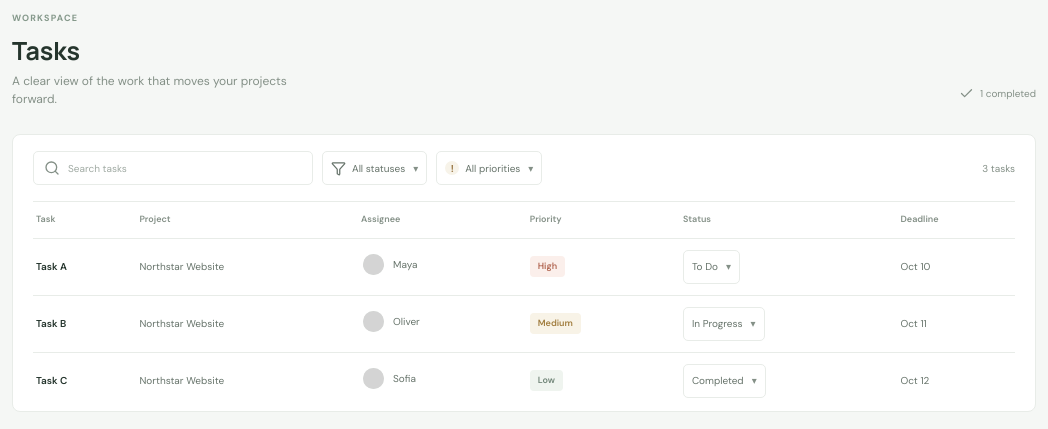
it: Tasks search and filters › filters tasks by status
Expected: the text "Task A" is shown, [36,260,67,273]
Click the button with aria-label "Filter tasks by status": point(375, 168) [322,151,427,185]
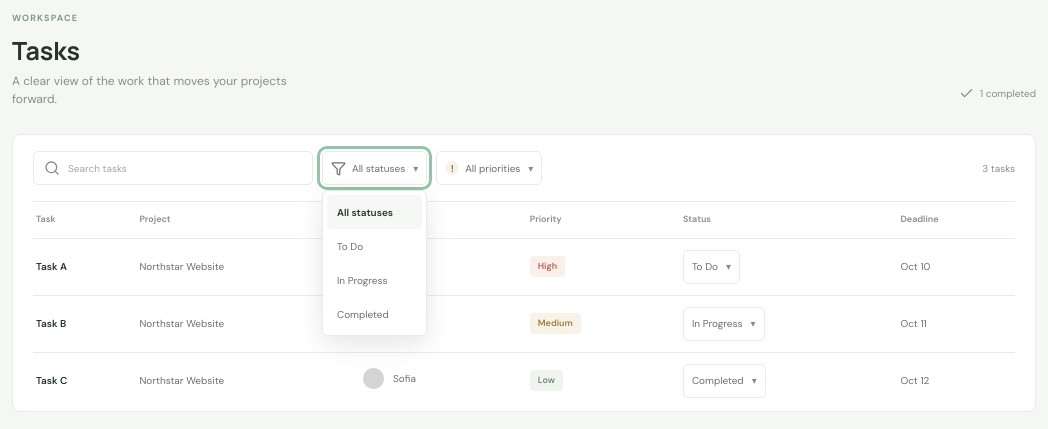
Click the option "Completed": point(363, 314) [337,308,389,320]
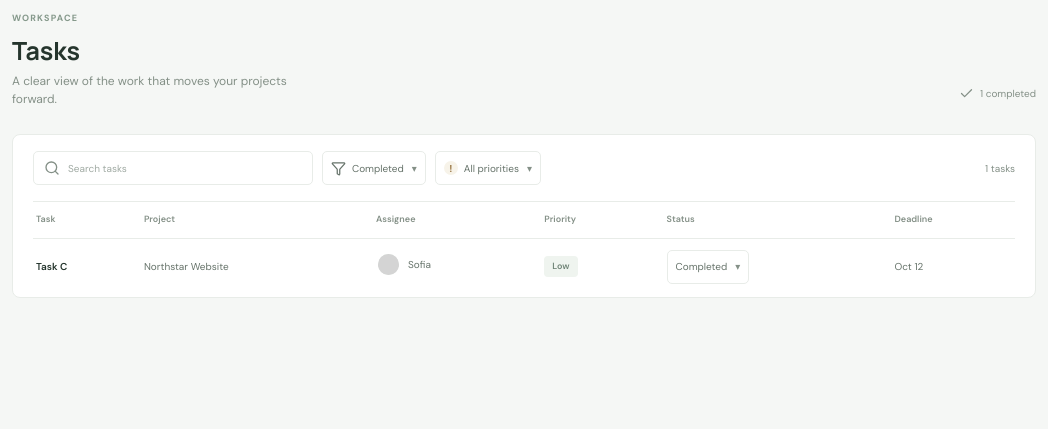
Expected: the text "Task C" is shown, [36,260,67,273]
Now the text "Task A" is gone
Now the text "Task B" is gone
